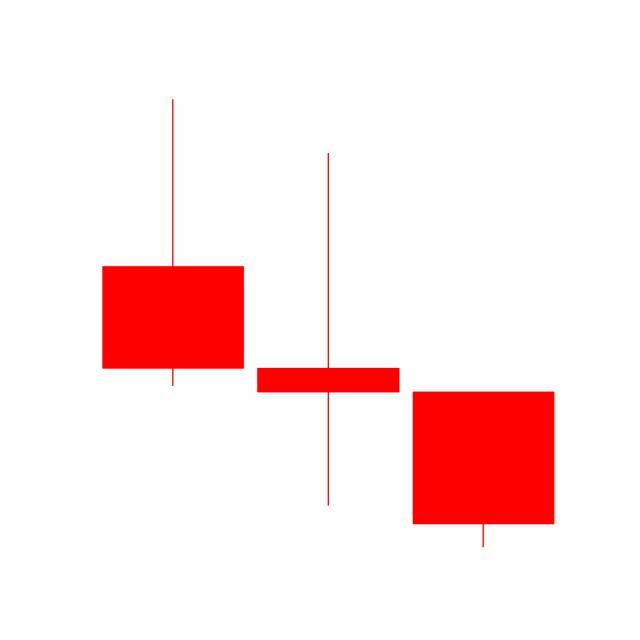Spinning Top: (250, 150, 407, 511)
